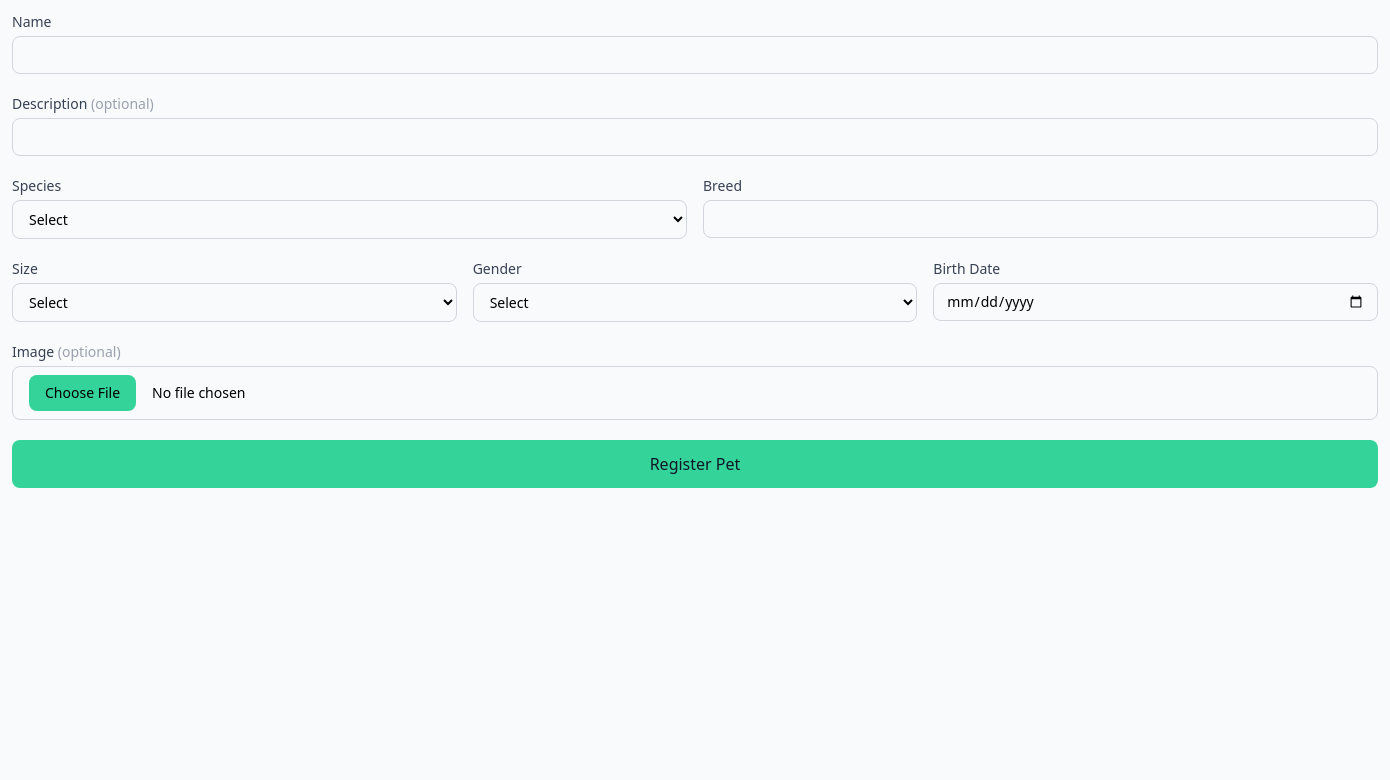
Scenario: PetForm › should show validation errors on empty submit
Click the button "Register Pet" at (695, 464), box [12,440,1378,488]
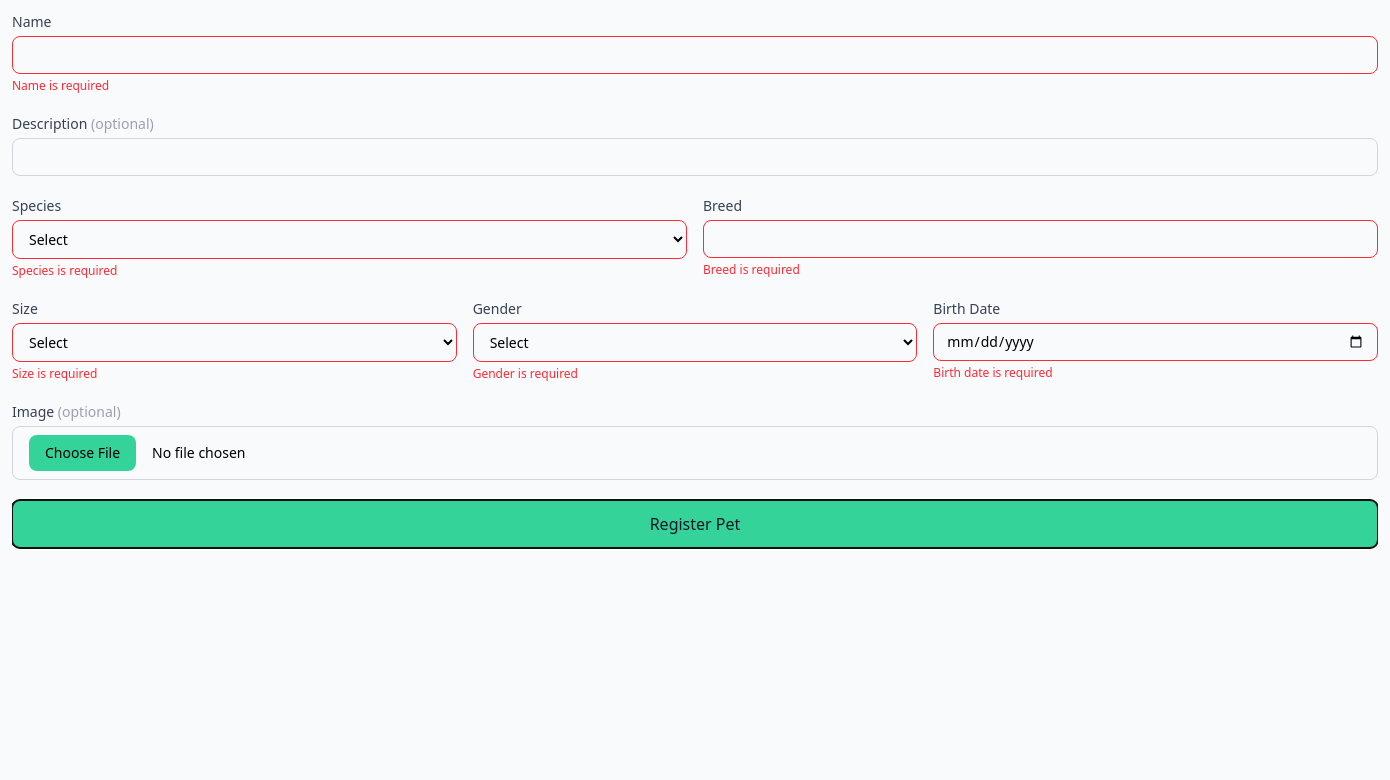
Expected: the text "Name is required" is shown, [12,77,109,94]
Expected: the text "Species is required" is shown, [12,262,117,279]
Expected: the text "Breed is required" is shown, [703,261,800,278]
